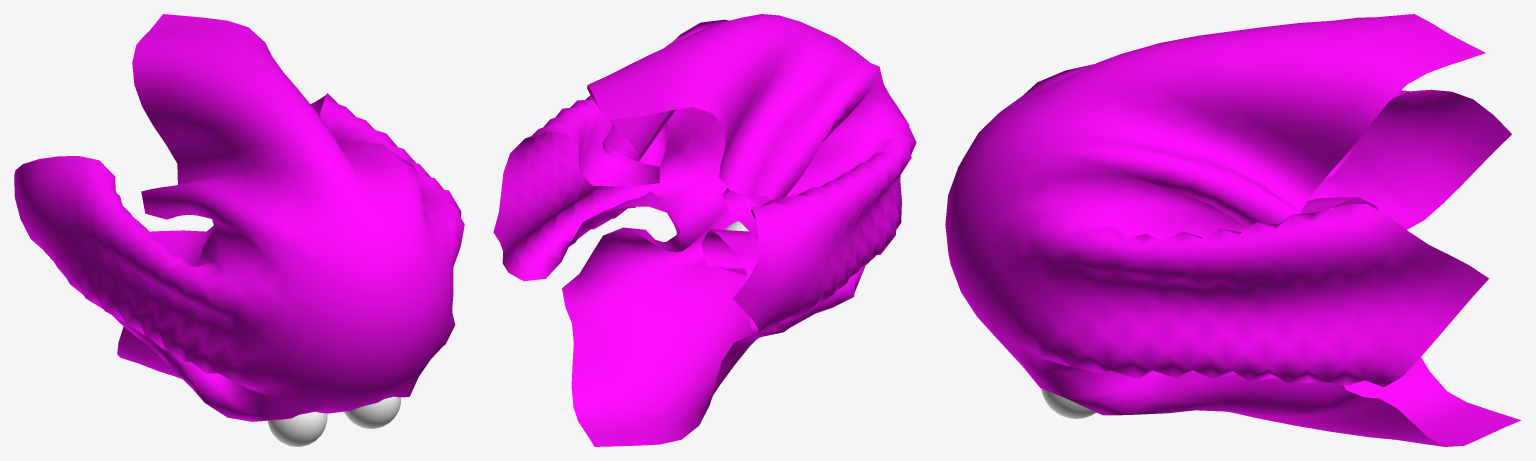
Rendered from phantom.obj.
The picture shows the model from 3 angles, left to right: view 1: azimuth 30°, elevation 25°; view 2: azimuth 150°, elevation 25°; view 3: azimuth 270°, elevation 25°; orthographic projection. The views are drawn at different scales.
Parts seen in each view (by area): view 1: polySurface9; view 2: polySurface9; view 3: polySurface9.
Boxes of the visible parts, x1=… form: polySurface9: x1=14, y1=14, x2=464, y2=446; polySurface9: x1=493, y1=14, x2=916, y2=446; polySurface9: x1=945, y1=14, x2=1520, y2=446.
Size of the model in its own units: 1.15 by 1.24 by 1.63.
